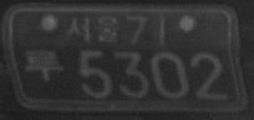0: (149, 48, 191, 102)
1: (150, 13, 172, 47)
2: (191, 50, 230, 102)
3: (113, 49, 149, 99)
5: (78, 48, 113, 99)
7: (123, 14, 149, 45)
루: (24, 47, 64, 82)
서울_O: (65, 13, 121, 44)
